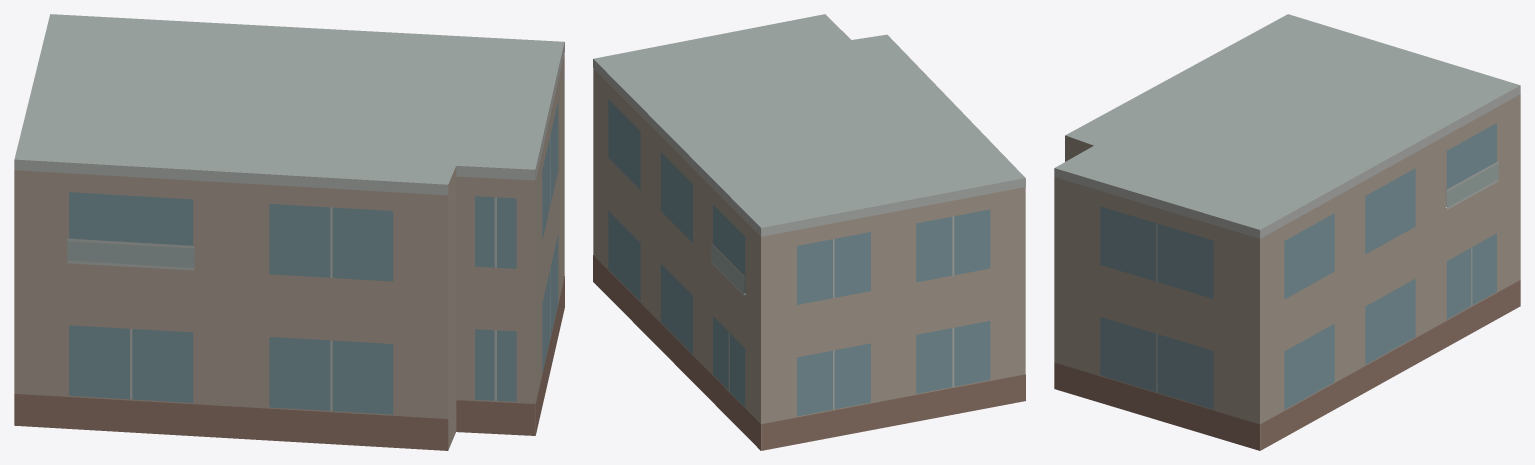
The model's file is survey-upis-32659956.glb.
3 views of the same model, side by side, from view 1: azimuth 30°, elevation 25°; view 2: azimuth 150°, elevation 25°; view 3: azimuth 270°, elevation 25° (orthographic). The views are drawn at different scales.
Visible parts, largest first — view 1: survey-upis-32659956.tmp; view 2: survey-upis-32659956.tmp; view 3: survey-upis-32659956.tmp.
Part boxes in pixels (<box>): survey-upis-32659956.tmp: <box>14,14,564,450</box>; survey-upis-32659956.tmp: <box>593,14,1025,450</box>; survey-upis-32659956.tmp: <box>1054,14,1520,450</box>.
Size of the model in its own units: 12.8 by 6.1 by 11.68.
